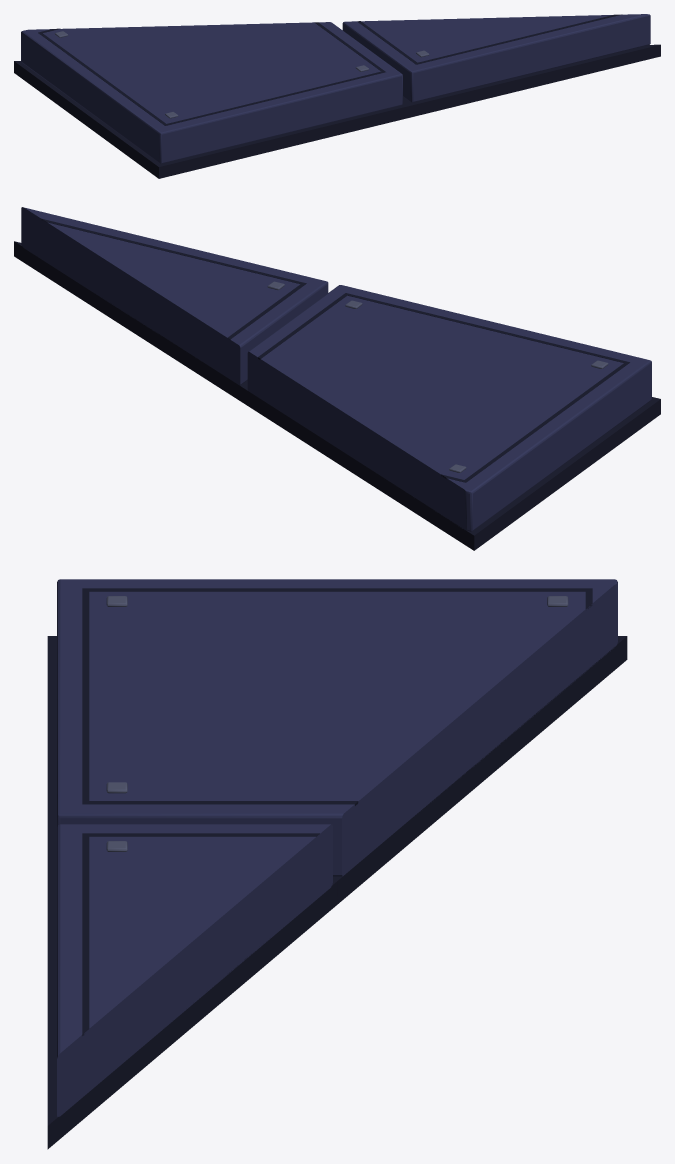
Rendered from roof.slope2.plate.glb.
3 views of the same model, one above another, from view 1: azimuth 30°, elevation 25°; view 2: azimuth 150°, elevation 25°; view 3: azimuth 270°, elevation 25° (orthographic). The views are drawn at different scales.
Visible parts, largest first — view 1: GEO-roof.slope2.plate; view 2: GEO-roof.slope2.plate; view 3: GEO-roof.slope2.plate.
Part boxes in pixels (x1,y1,x2,y2): GEO-roof.slope2.plate: (14, 14, 660, 178); GEO-roof.slope2.plate: (14, 207, 660, 550); GEO-roof.slope2.plate: (47, 579, 627, 1149).
Bounding box in the file's own units: 2 × 0.17 × 1.
